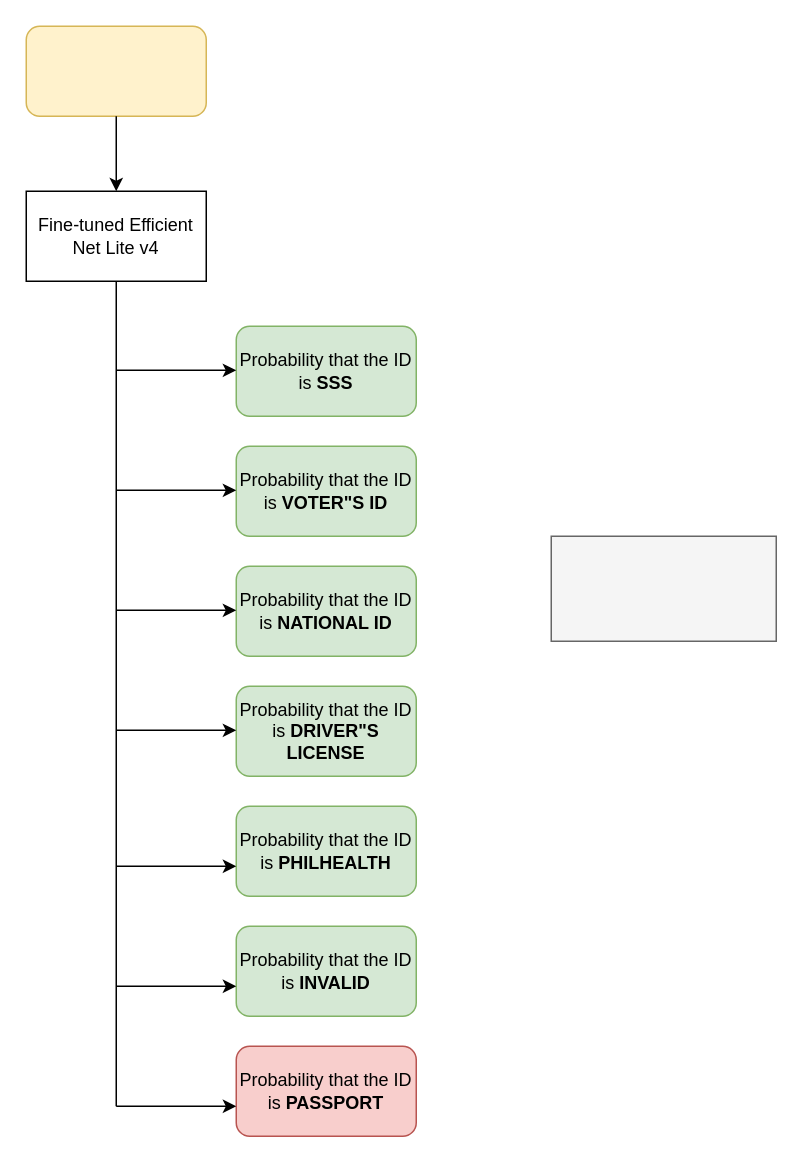
The diagram is 803 pixels wide and 1163 high, and some of its shapes have lost their labels. The centre of each missing label's shape, as x and y in pixels:
"ID Picture" belongs at point 115,70.
"If the ID is not INVALID the test passes" belongs at point 663,588.
